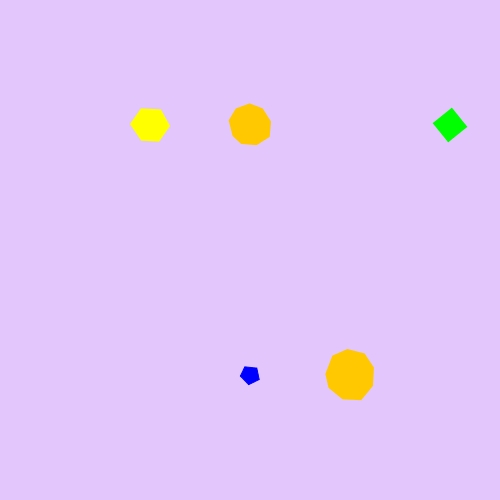hexagon: (127, 105, 174, 145)
nonagon: (321, 347, 380, 403), (225, 101, 276, 150)
pentagon: (236, 361, 264, 389)
quadrilateral: (429, 104, 471, 146)
